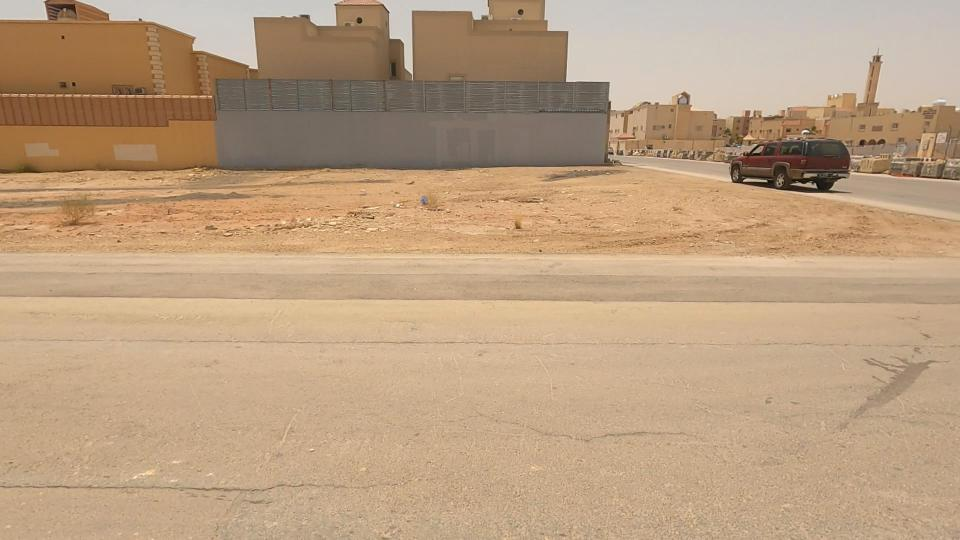GARBAGE: (390, 168, 455, 236)
